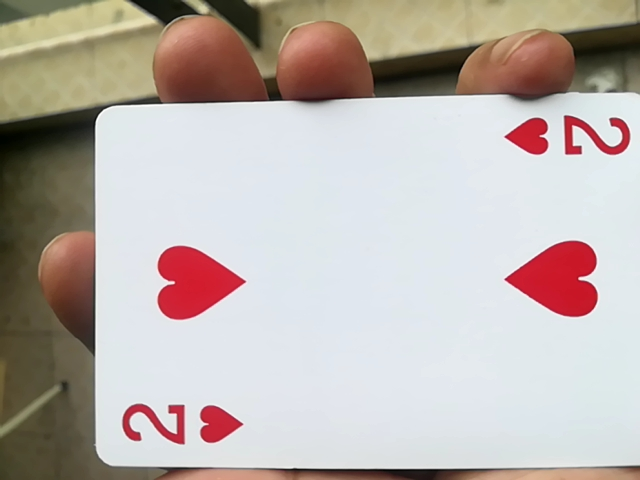hx 2: (77, 100, 638, 480)
